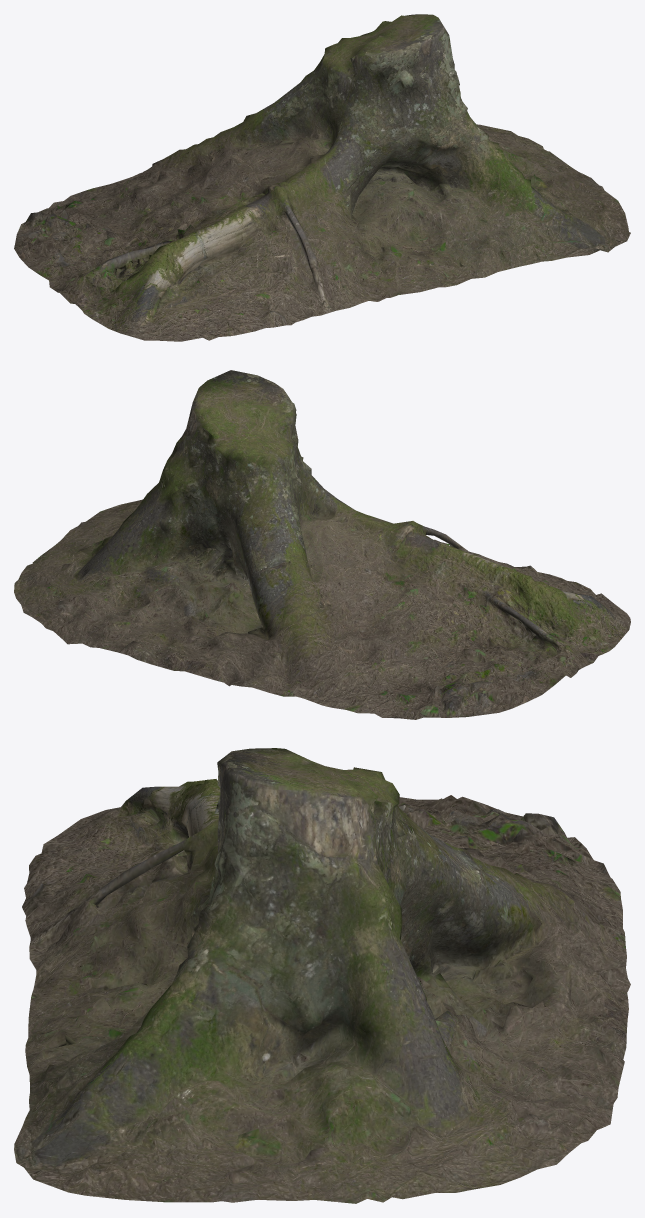
The model's file is PX_Stump_06_LOD2.fbx.
3 views of the same model, one above another, from view 1: azimuth 30°, elevation 25°; view 2: azimuth 150°, elevation 25°; view 3: azimuth 270°, elevation 25° (orthographic). The views are drawn at different scales.
Visible parts, largest first — view 1: PX_Stump_06_LOD2; view 2: PX_Stump_06_LOD2; view 3: PX_Stump_06_LOD2.
Part boxes in pixels (x1=…): PX_Stump_06_LOD2: x1=14, y1=14, x2=630, y2=341; PX_Stump_06_LOD2: x1=14, y1=370, x2=630, y2=719; PX_Stump_06_LOD2: x1=14, y1=748, x2=630, y2=1203.
Size of the model in its own units: 248 by 89.81 by 160.
